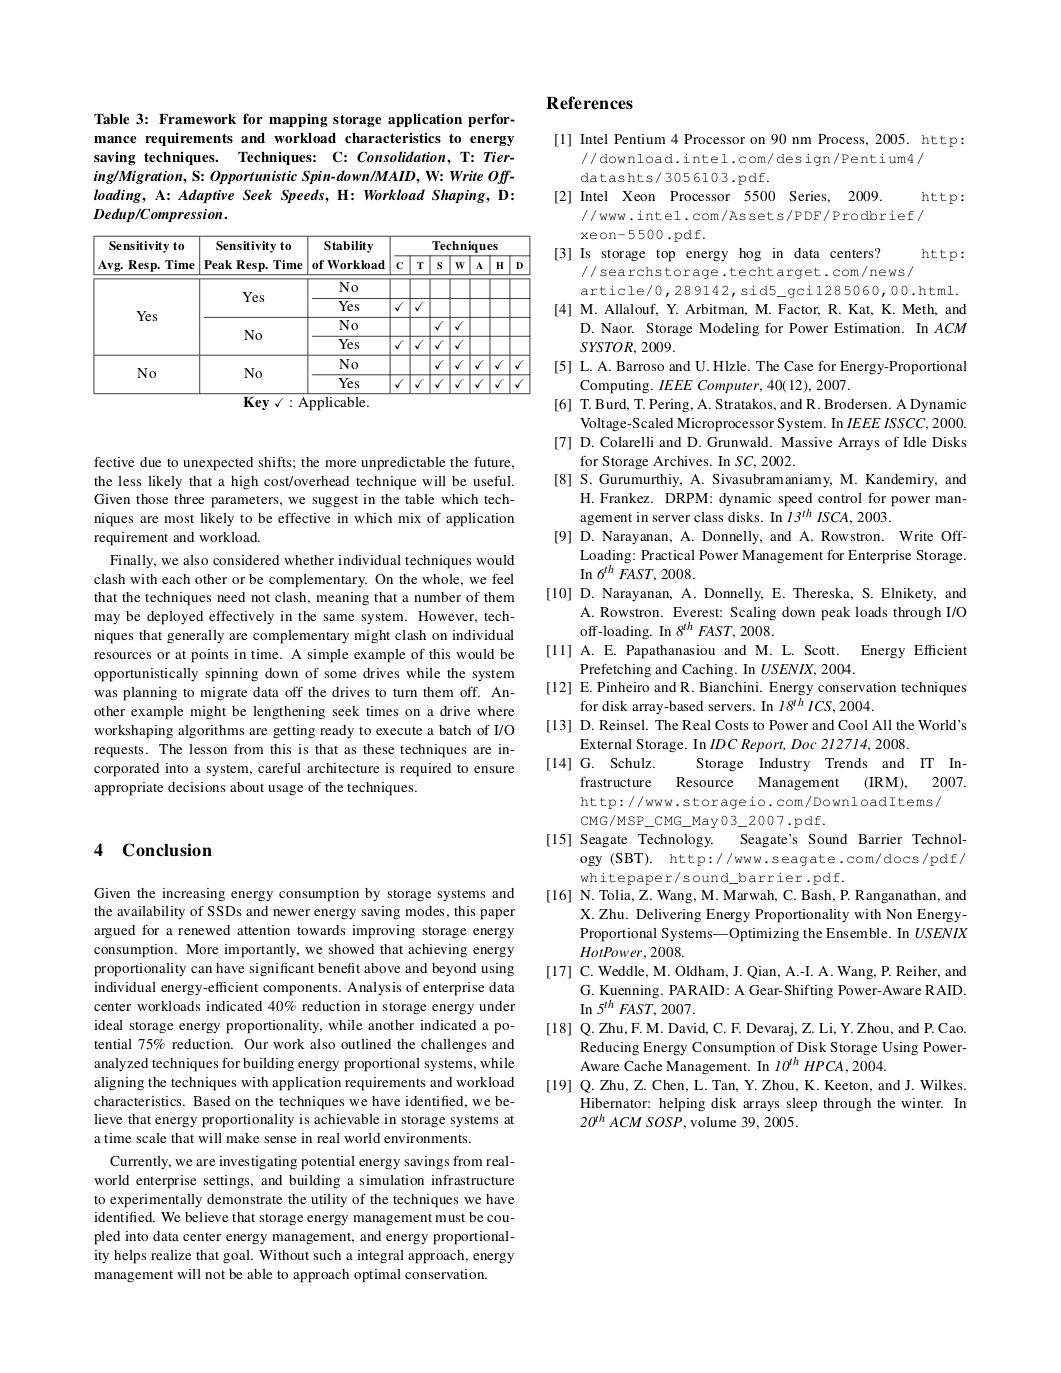Table: (93, 234, 530, 411)
